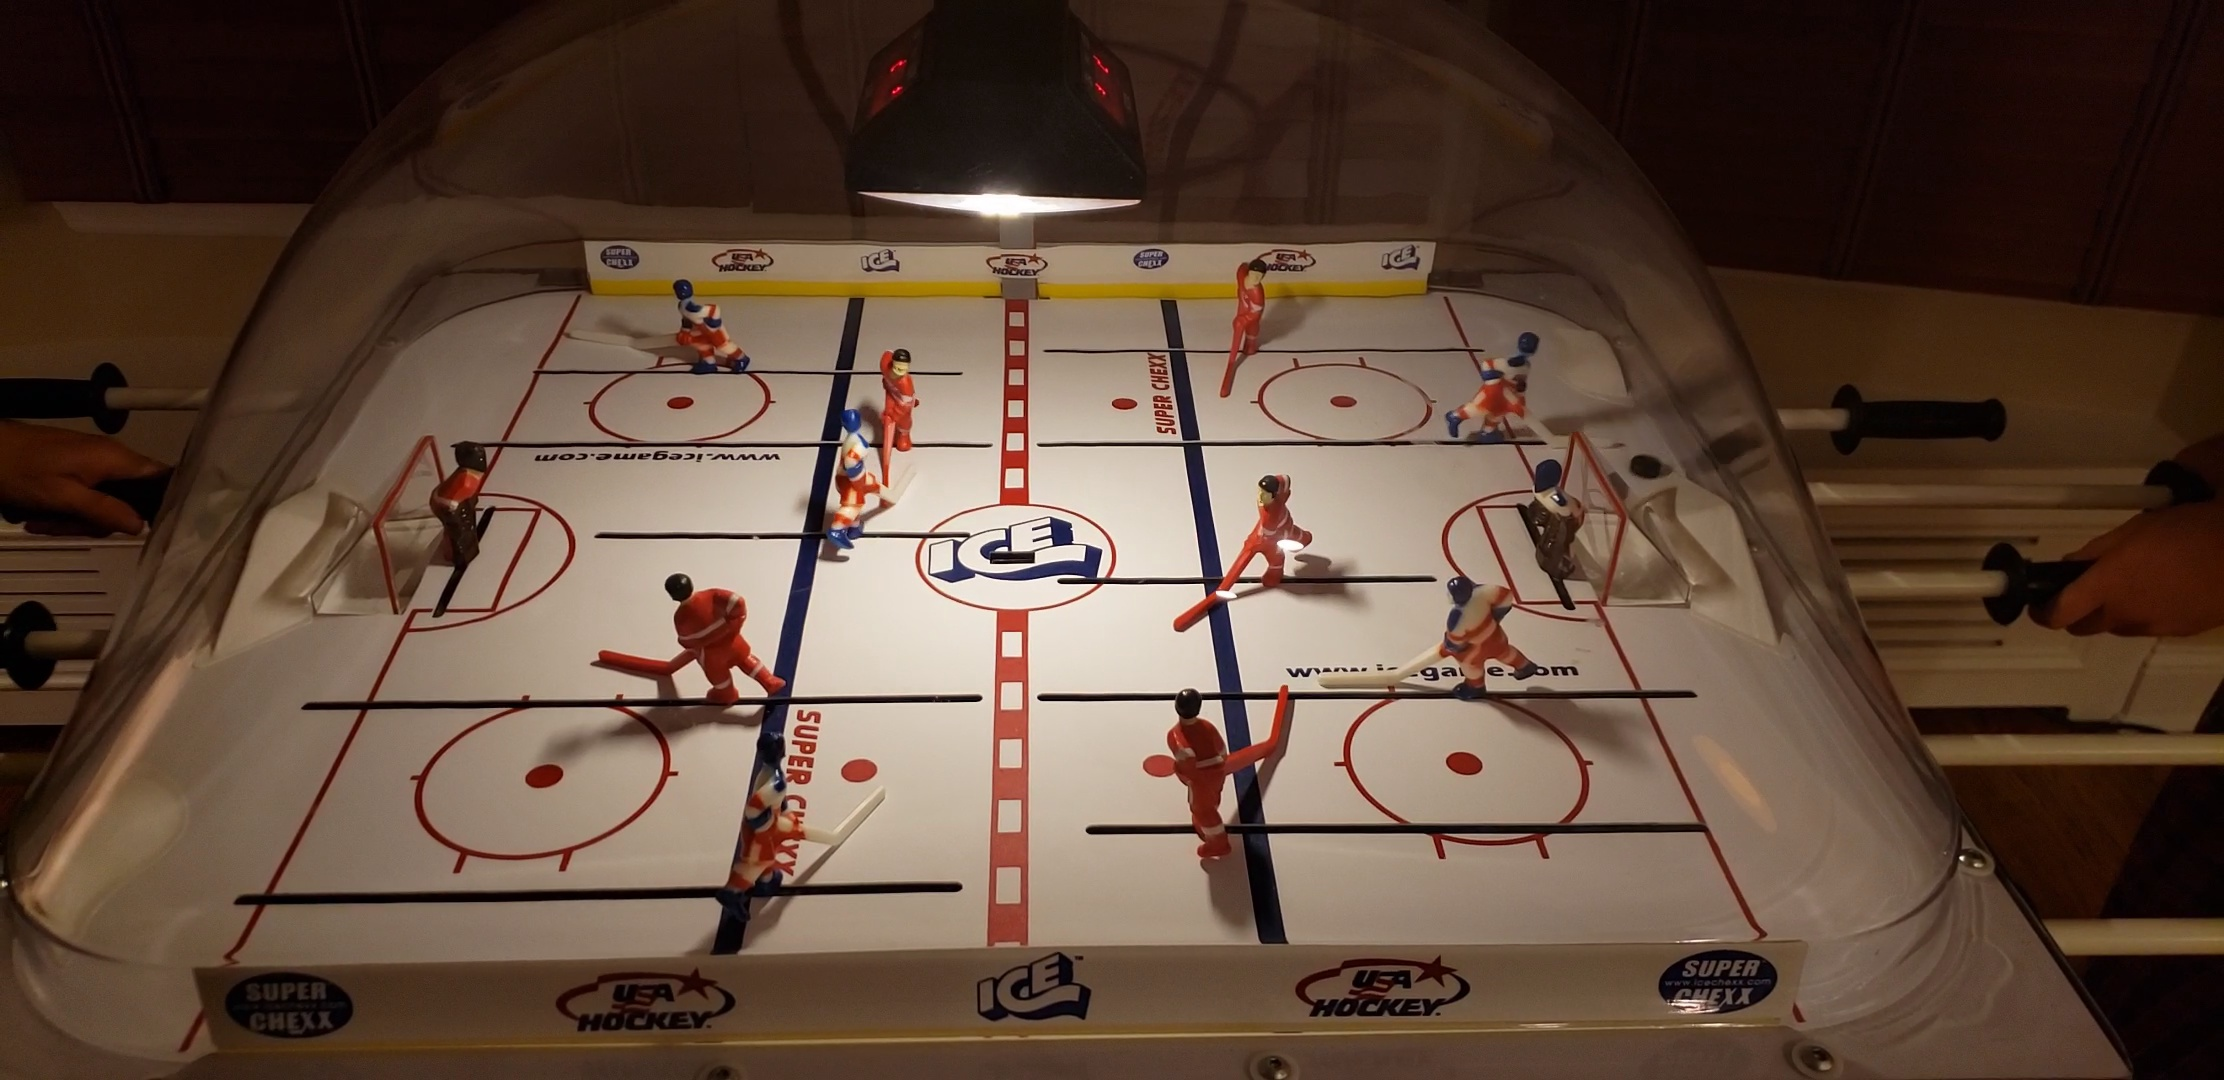puck: (1631, 451, 1665, 480)
